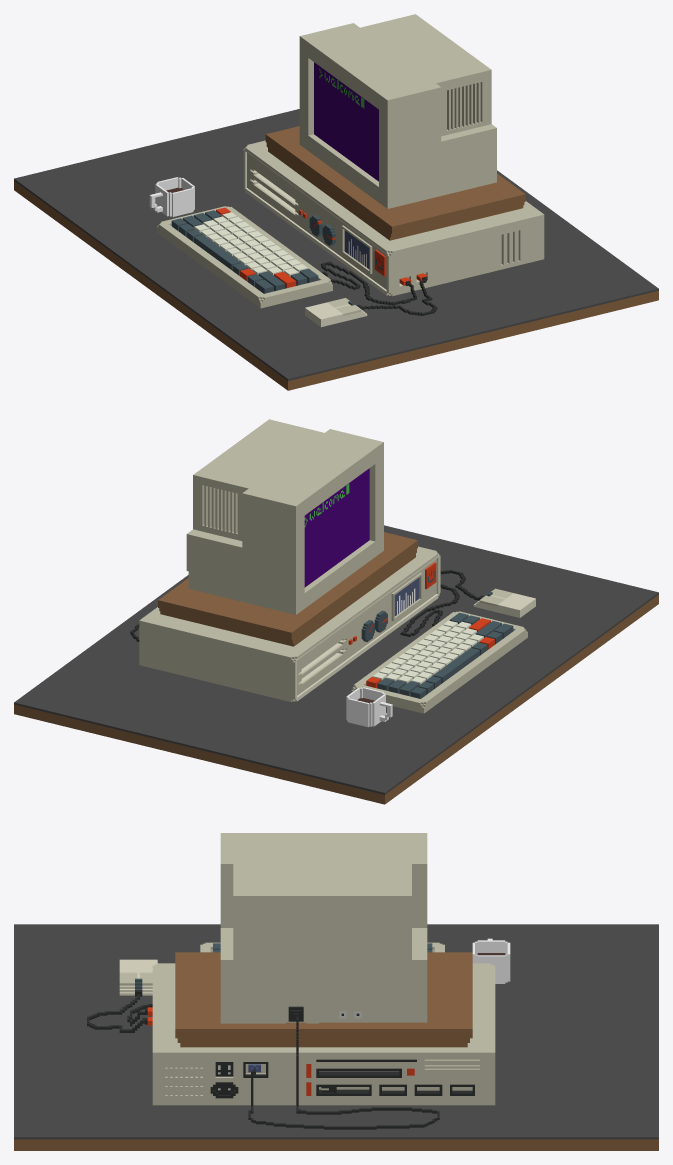
The model's file is retrodesktop.glb.
The picture shows the model from 3 angles, top to bottom: view 1: azimuth 30°, elevation 25°; view 2: azimuth 150°, elevation 25°; view 3: azimuth 270°, elevation 25°; orthographic projection. The views are drawn at different scales.
Visible parts, largest first — view 1: Untitled; view 2: Untitled; view 3: Untitled.
Part boxes in pixels (x1=…): Untitled: x1=14, y1=14, x2=658, y2=390; Untitled: x1=14, y1=419, x2=658, y2=804; Untitled: x1=14, y1=833, x2=658, y2=1150.
Size of the model in its own units: 20 by 9.3 by 25.6.
Materials: 1 (1 with a texture image).
